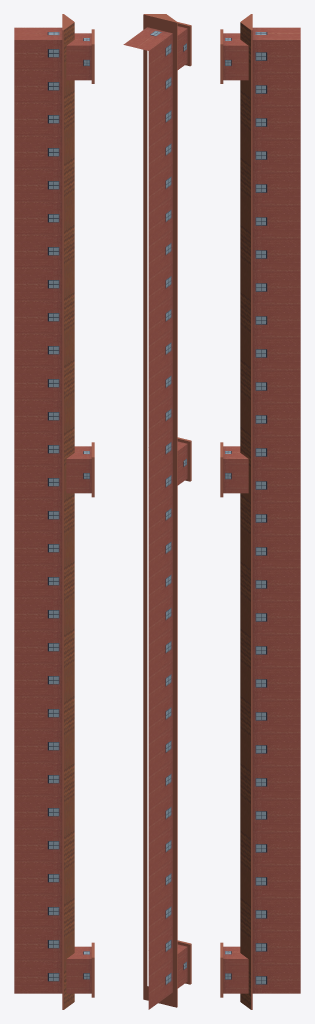
Rendered from SG_cfz.gltf.
3 views of the same model, side by side, from view 1: azimuth 90°, elevation 25°; view 2: azimuth 150°, elevation 25°; view 3: azimuth 270°, elevation 25° (orthographic).
Visible parts, largest first — view 1: Box002; view 2: Box002; view 3: Box002.
Part boxes in pixels (x1,y1,x2,y2): Box002: [14, 14, 94, 1009]; Box002: [123, 14, 191, 1009]; Box002: [220, 14, 300, 1009].
Size of the model in its own units: 30.85 by 869 by 64.43.
4 materials, 4 textured.
